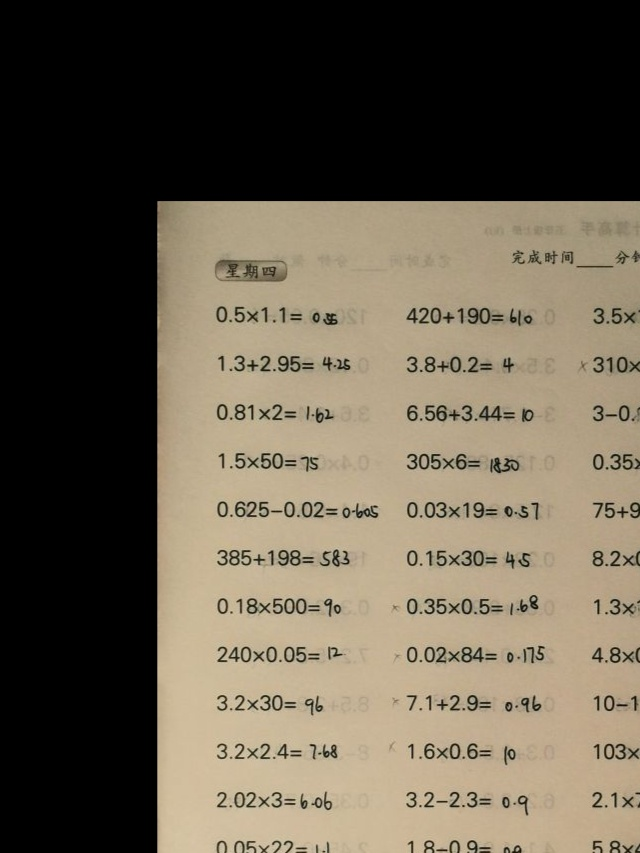equation: (212, 496, 381, 522), (389, 592, 541, 620), (392, 641, 548, 667), (390, 689, 545, 715), (403, 786, 533, 815), (213, 301, 341, 330), (214, 545, 354, 571), (403, 400, 538, 426), (215, 351, 355, 376), (402, 302, 536, 328), (402, 498, 541, 523), (402, 545, 534, 571), (214, 595, 345, 621), (212, 399, 337, 425), (404, 737, 520, 765), (402, 448, 522, 475), (215, 643, 347, 667), (213, 689, 326, 717), (213, 740, 342, 764), (213, 788, 335, 813), (215, 448, 322, 474), (404, 353, 519, 377), (405, 836, 526, 853), (212, 836, 332, 853), (577, 351, 640, 379), (589, 302, 640, 332), (588, 400, 640, 428), (588, 785, 640, 812), (587, 643, 640, 669), (587, 545, 640, 571), (589, 738, 640, 764), (589, 499, 640, 525), (590, 595, 640, 621), (589, 691, 640, 715), (589, 450, 640, 474), (588, 836, 640, 853)
